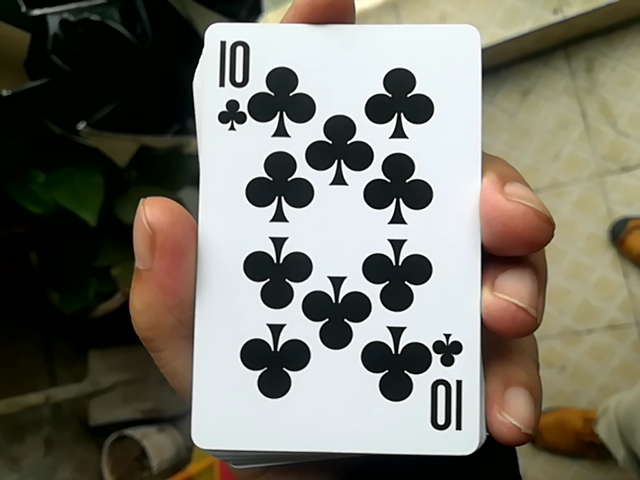mh 10: (182, 13, 479, 441)
